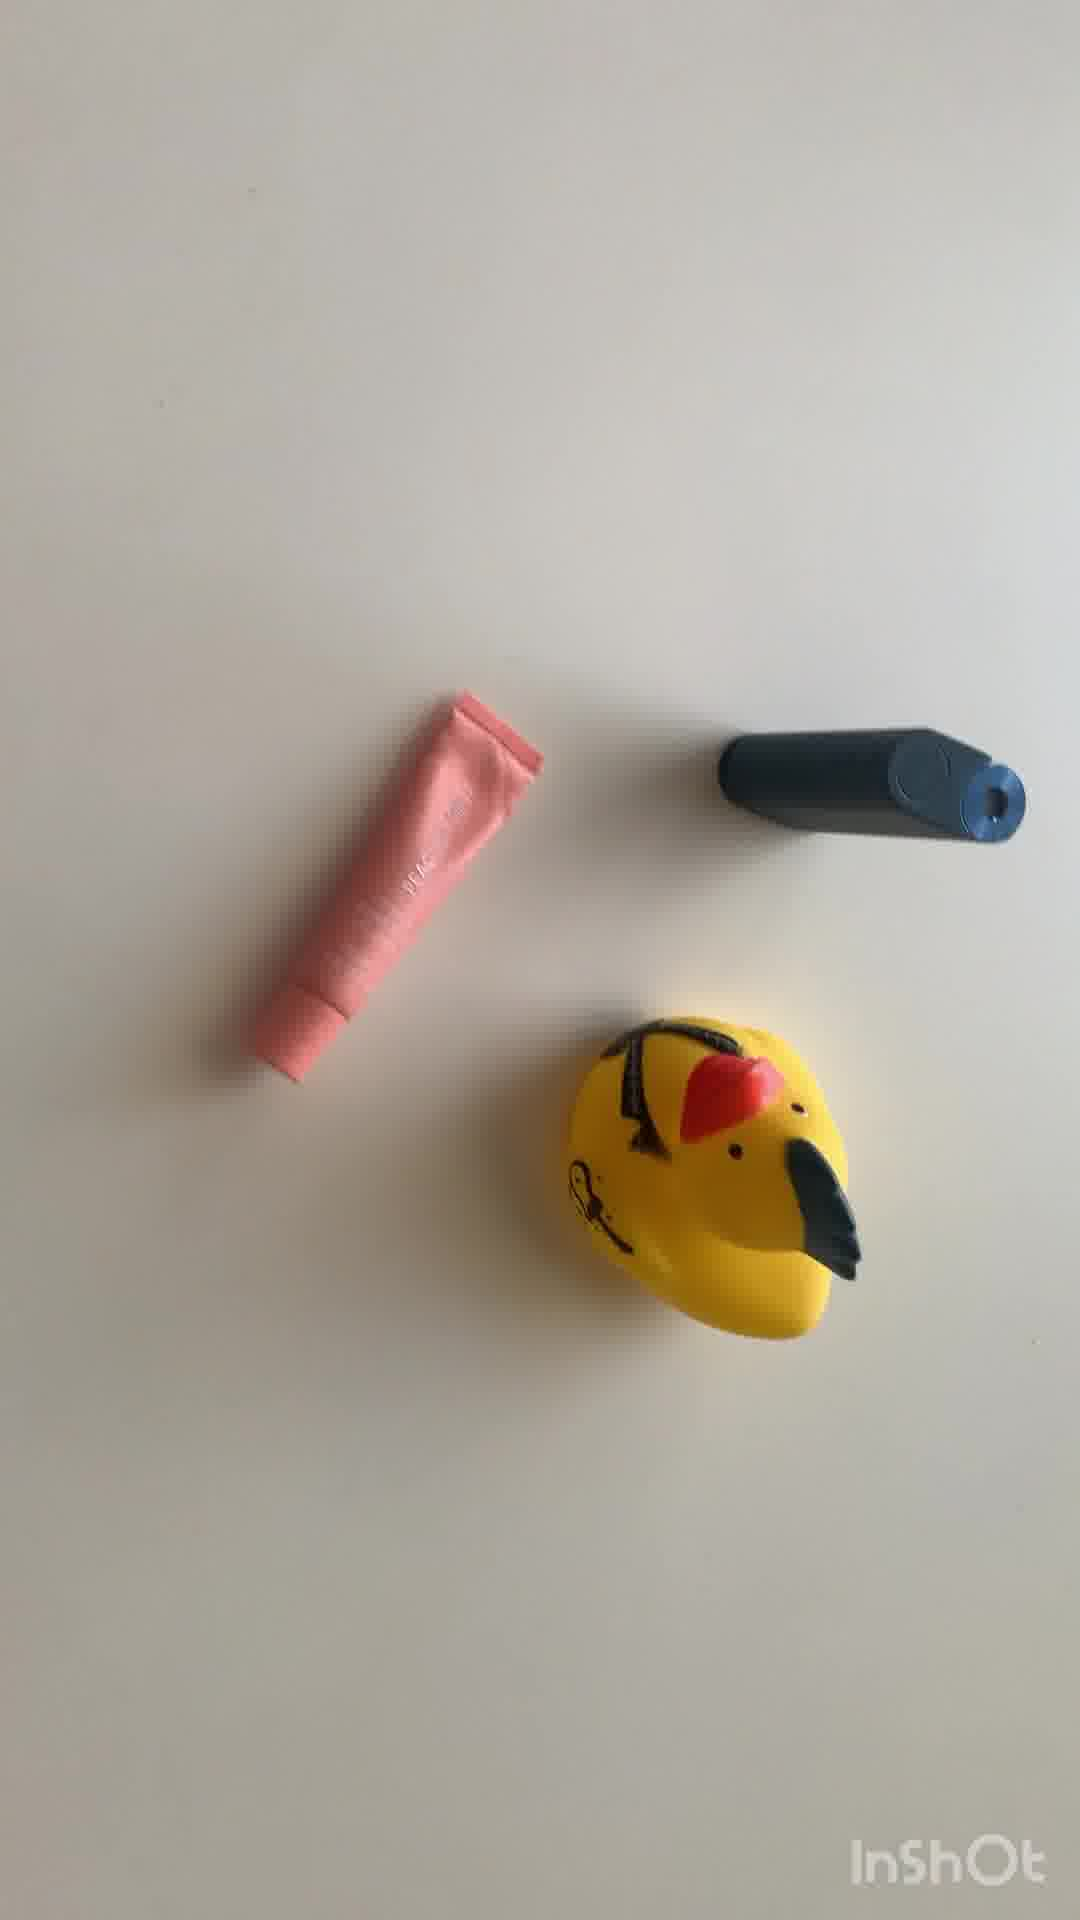duck: (551, 1013, 858, 1344)
glo: (717, 731, 1026, 849)
lip balm: (247, 687, 546, 1093)
